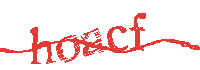a: (80, 28, 105, 57)
c: (107, 25, 129, 52)
f: (130, 9, 147, 52)
h: (28, 26, 56, 65)
o: (55, 34, 80, 62)
